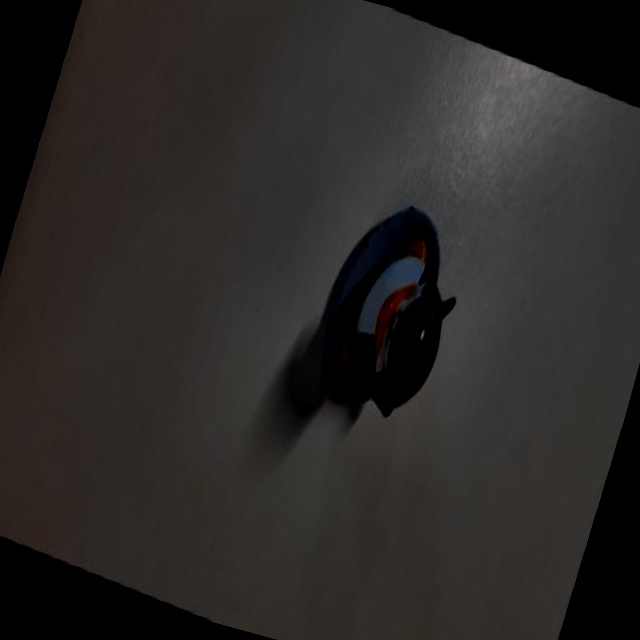Penguin: (287, 154, 495, 457)
